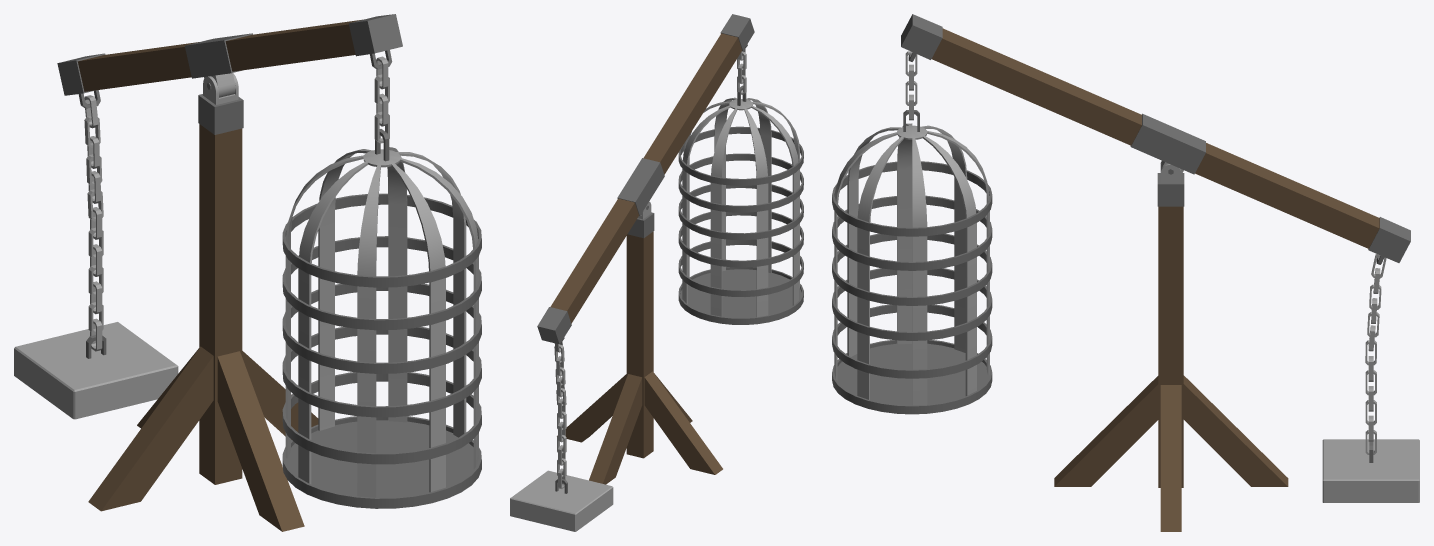
Rendered from TortureDevice.glb.
The picture shows the model from 3 angles, left to right: view 1: azimuth 30°, elevation 25°; view 2: azimuth 150°, elevation 25°; view 3: azimuth 270°, elevation 25°; orthographic projection. The views are drawn at different scales.
Visible parts, largest first — view 1: torture_device_015; view 2: torture_device_015; view 3: torture_device_015.
Part boxes in pixels (x1,y1,x2,y2): torture_device_015: [14, 14, 481, 531]; torture_device_015: [510, 14, 803, 531]; torture_device_015: [832, 14, 1419, 531].
Bounding box in the file's own units: 1.85 × 4.03 × 4.64.
